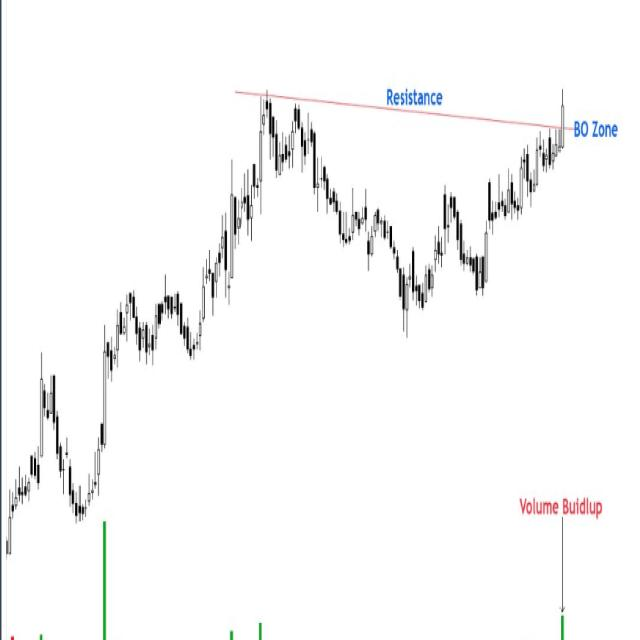Channel-down: (240, 69, 446, 371)
